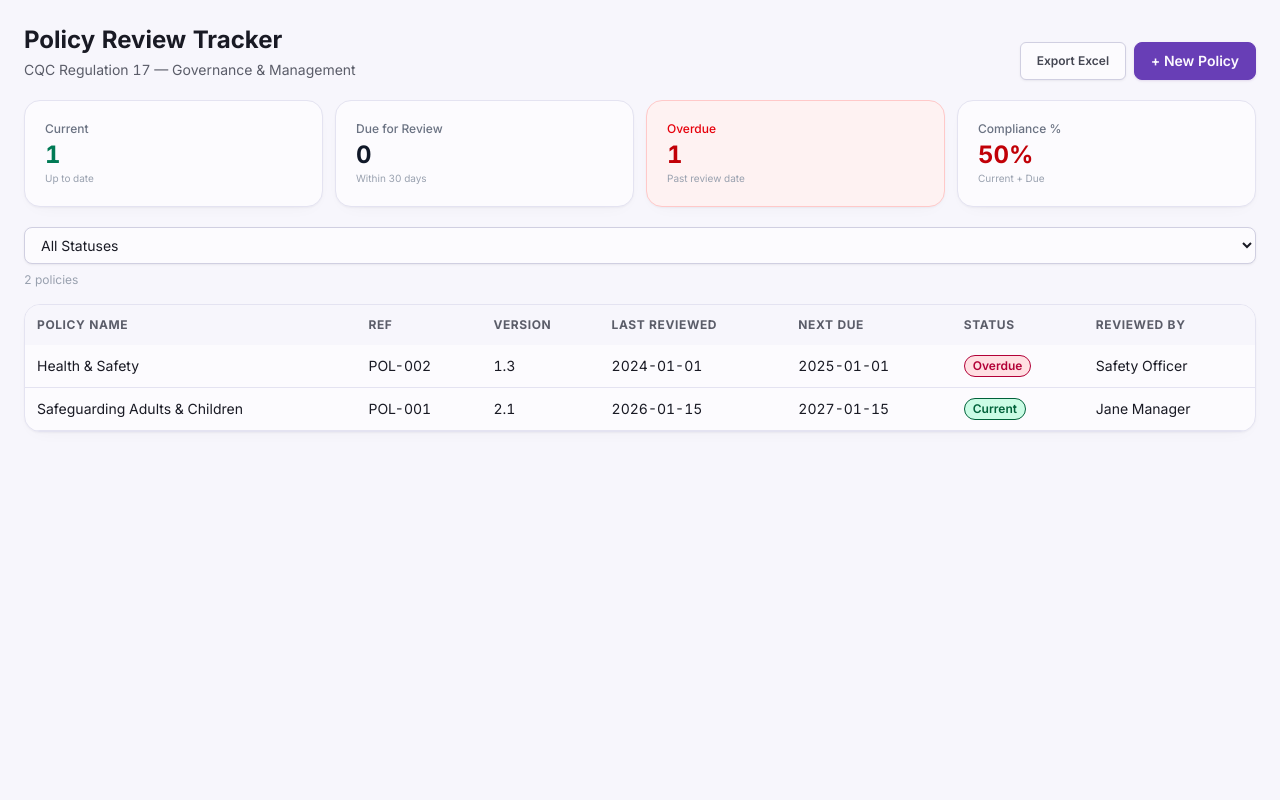
it: PolicyReviewTracker › shows policy documents uploader for existing policies
Click the text "Safeguarding Adults & Children" at (191, 409), box [25,388,356,430]
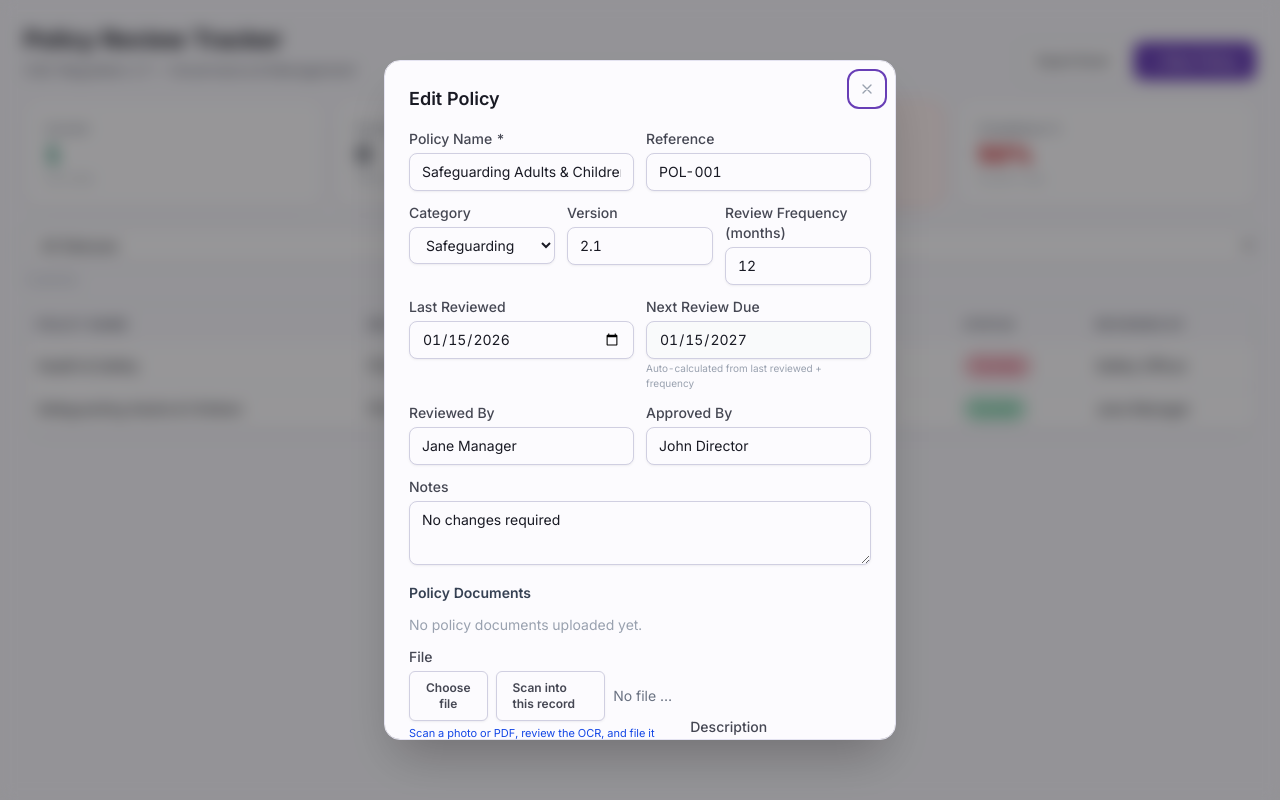
Expected: the heading "Policy Documents" is shown, [409,584,531,601]
Expected: the text "No policy documents uploaded yet." is shown, [409,616,642,633]
